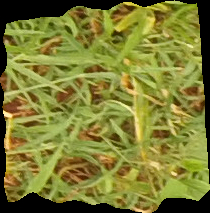grass: (1, 1, 209, 212)
